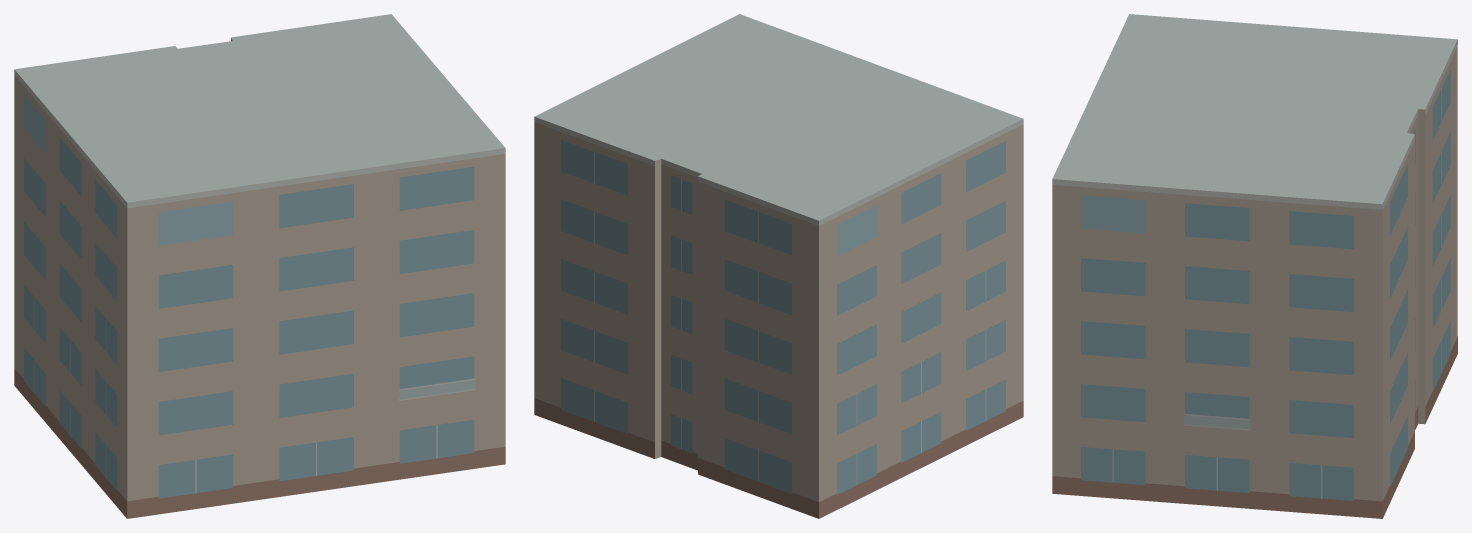
Rendered from survey-upis-32888560.glb.
3 renders of one model, left to right at view 1: azimuth 30°, elevation 25°; view 2: azimuth 150°, elevation 25°; view 3: azimuth 270°, elevation 25°, orthographic. The views are drawn at different scales.
Visible parts, largest first — view 1: survey-upis-32888560.tmp; view 2: survey-upis-32888560.tmp; view 3: survey-upis-32888560.tmp.
Boxes of the visible parts, x1,y1,x2,y2 form: survey-upis-32888560.tmp: [14, 14, 505, 518]; survey-upis-32888560.tmp: [534, 14, 1023, 518]; survey-upis-32888560.tmp: [1052, 14, 1457, 518].
Size of the model in its own units: 17.6 by 13.57 by 15.86.
